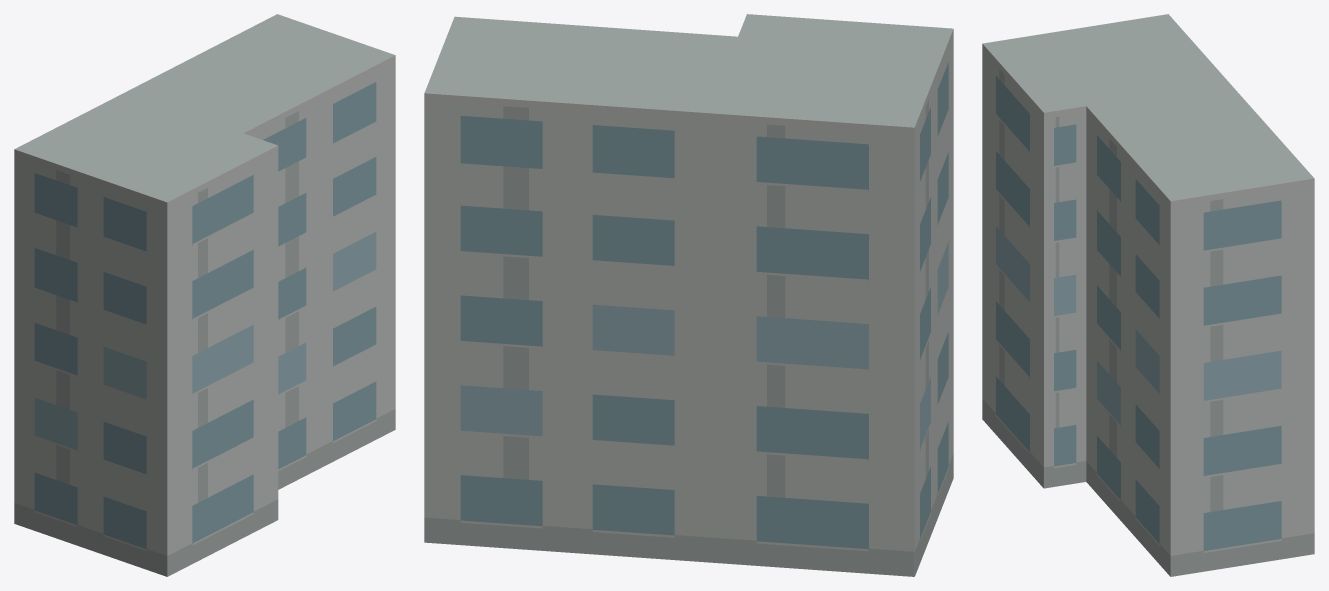
The model's file is residential-6835fb52-bbdb-40b8-a437-52127c0e3505.glb.
3 renders of one model, left to right at view 1: azimuth 30°, elevation 25°; view 2: azimuth 150°, elevation 25°; view 3: azimuth 270°, elevation 25°, orthographic. The views are drawn at different scales.
Visible parts, largest first — view 1: residential-6835fb52-bbdb-40b8-a437-52127c0e3505.tmp; view 2: residential-6835fb52-bbdb-40b8-a437-52127c0e3505.tmp; view 3: residential-6835fb52-bbdb-40b8-a437-52127c0e3505.tmp.
Part boxes in pixels (bbox=[...]): residential-6835fb52-bbdb-40b8-a437-52127c0e3505.tmp: bbox=[14, 14, 395, 576]; residential-6835fb52-bbdb-40b8-a437-52127c0e3505.tmp: bbox=[424, 14, 953, 576]; residential-6835fb52-bbdb-40b8-a437-52127c0e3505.tmp: bbox=[982, 14, 1314, 576].
Size of the model in its own units: 16.04 by 15 by 12.03.
